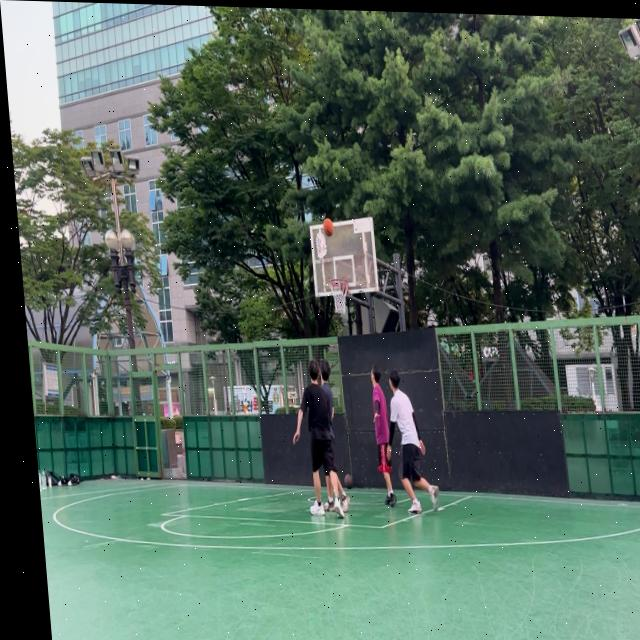basketball: (322, 218, 335, 237), (344, 474, 354, 490)
hoop: (328, 278, 352, 316)
